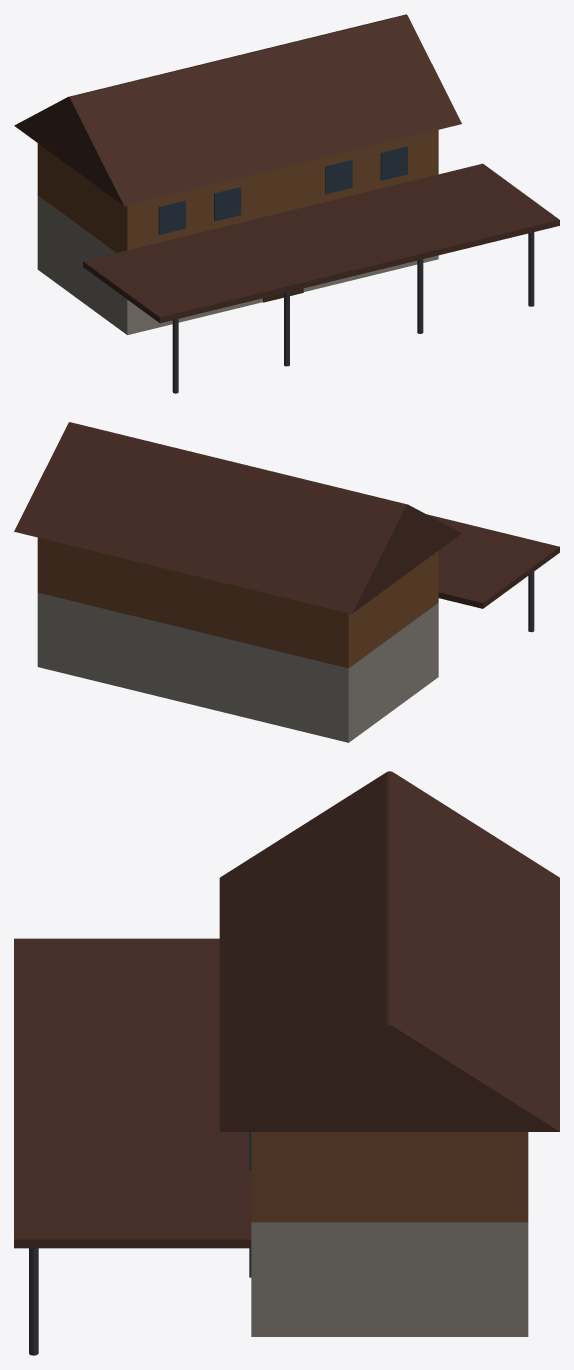
Rendered from rail_station.obj.
3 views of the same model, one above another, from view 1: azimuth 30°, elevation 25°; view 2: azimuth 150°, elevation 25°; view 3: azimuth 270°, elevation 25° (orthographic). The views are drawn at different scales.
Size of the model in its own units: 18 by 8.97 by 13.8.
